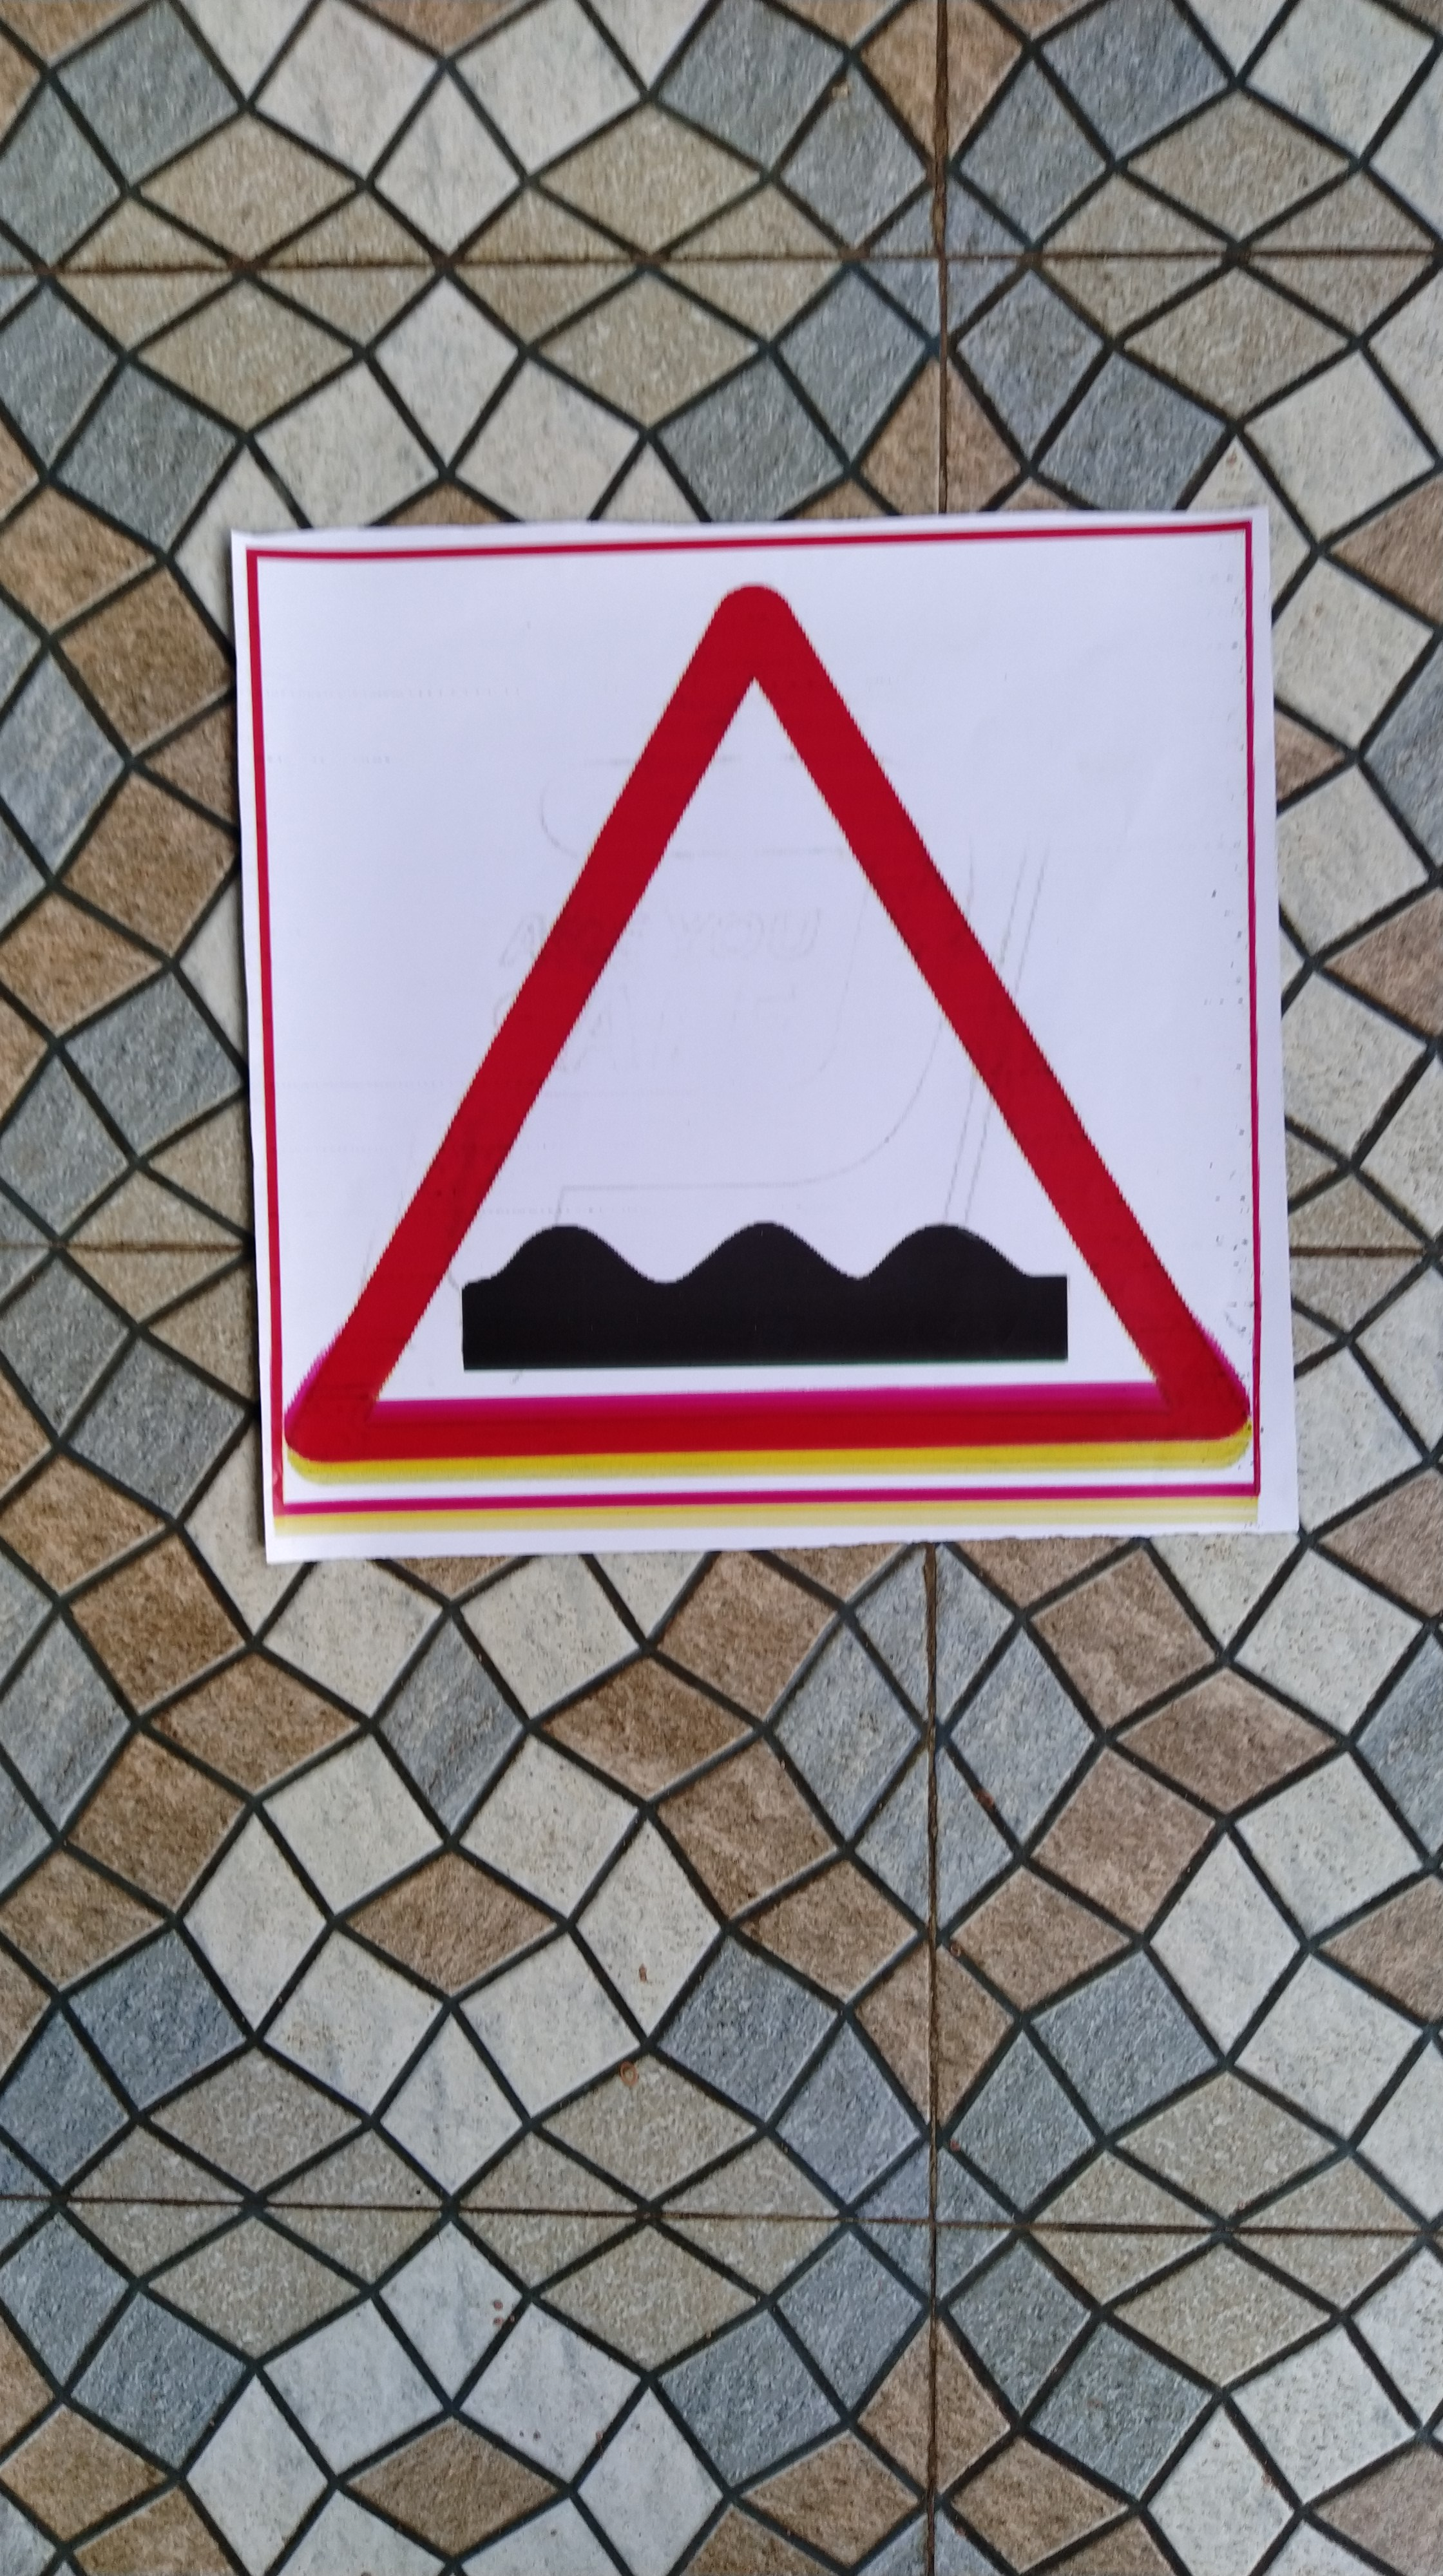speed breaker: (235, 538, 1282, 1539)
